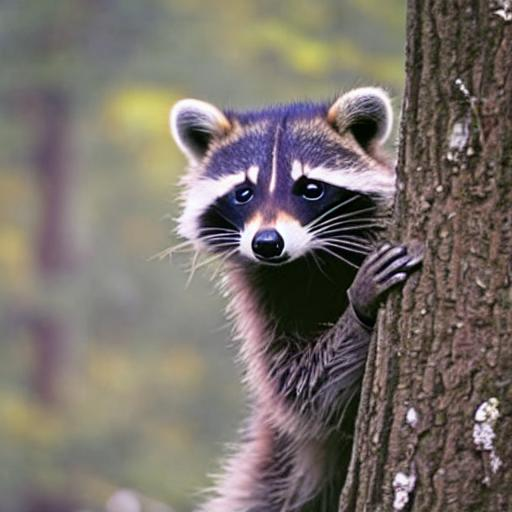raccoon: (162, 78, 402, 512)
